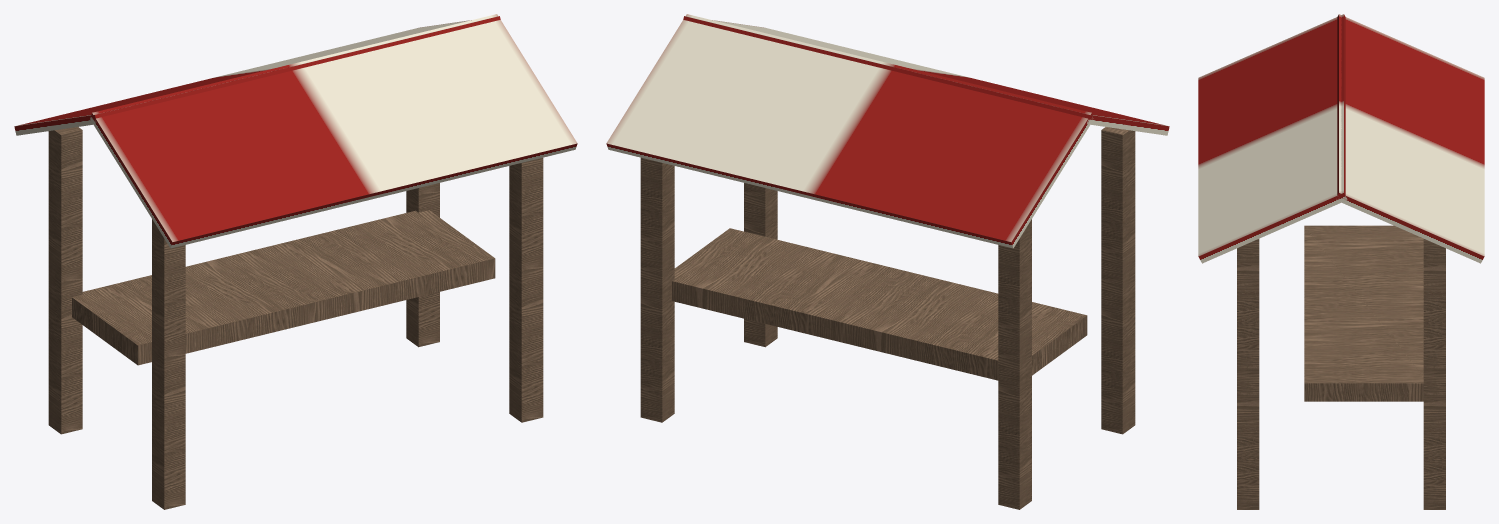
File: stall_striped.glb
The picture shows the model from 3 angles, left to right: view 1: azimuth 30°, elevation 25°; view 2: azimuth 150°, elevation 25°; view 3: azimuth 270°, elevation 25°; orthographic projection. The views are drawn at different scales.
Parts seen in each view (by area): view 1: stall_striped; view 2: stall_striped; view 3: stall_striped.
Boxes of the visible parts, x1,y1,x2,y2 form: stall_striped: [14, 14, 577, 509]; stall_striped: [606, 14, 1169, 509]; stall_striped: [1198, 14, 1484, 509].
Bounding box in the file's own units: 3.4 × 2.86 × 2.3.
Materials: 2 (2 with a texture image).
